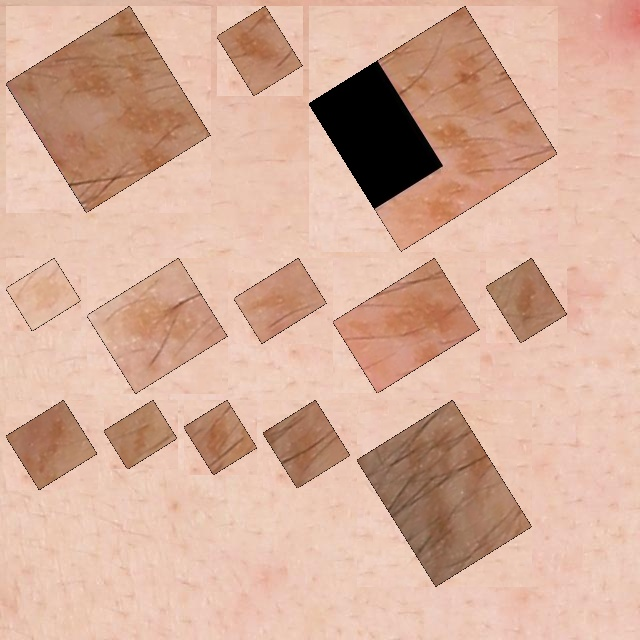melasma: (320, 17, 546, 240), (17, 17, 199, 201), (368, 411, 521, 575), (344, 269, 468, 382), (98, 269, 216, 382), (17, 411, 86, 478), (245, 269, 316, 332), (274, 411, 339, 477), (228, 17, 291, 85), (497, 269, 556, 332), (17, 269, 70, 320), (195, 411, 246, 463), (115, 411, 166, 458)
